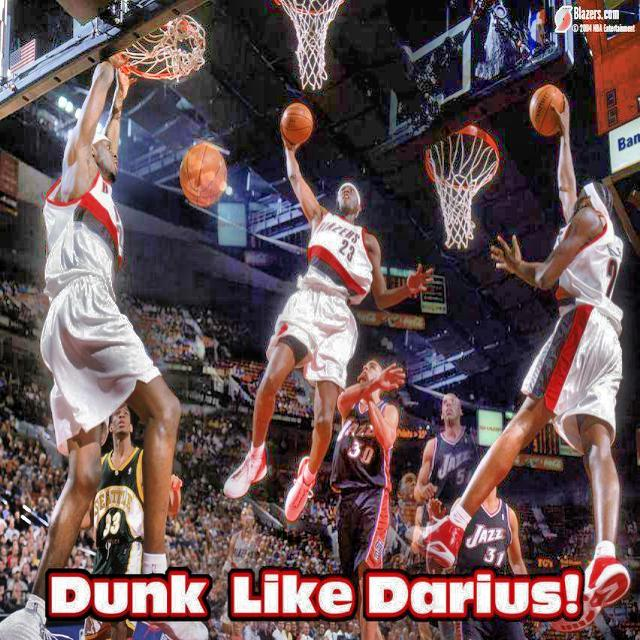board: (175, 144, 222, 210), (281, 104, 313, 146)
rim: (425, 125, 500, 248)
